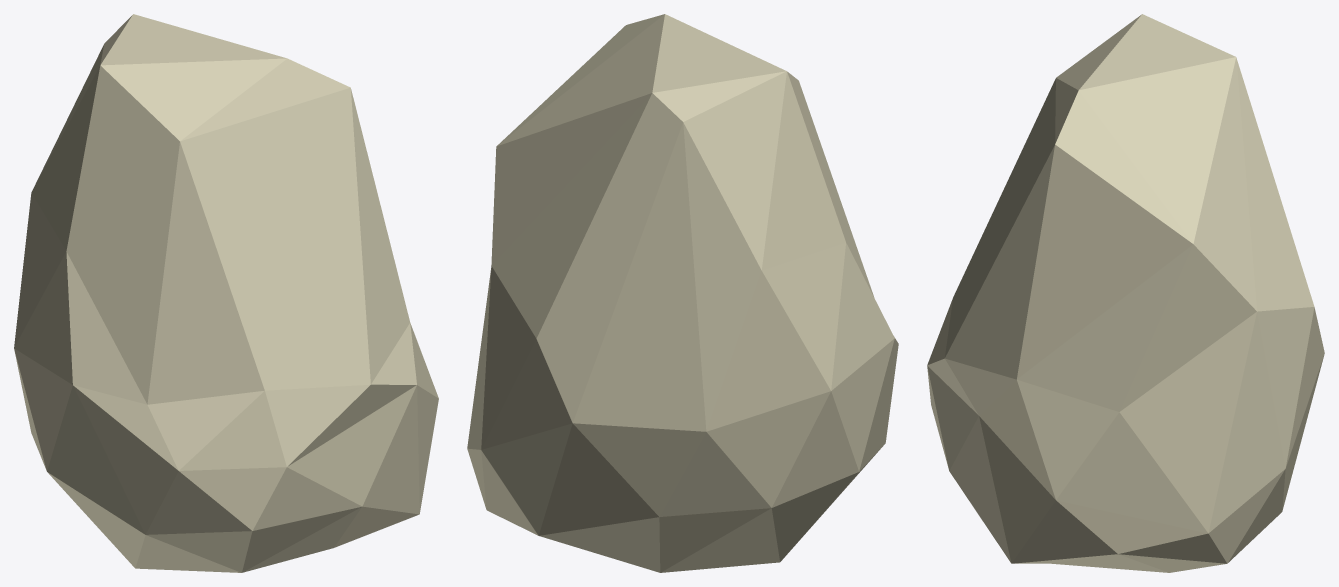
Rendered from Rock 5.fbx.
3 views of the same model, side by side, from view 1: azimuth 30°, elevation 25°; view 2: azimuth 150°, elevation 25°; view 3: azimuth 270°, elevation 25° (orthographic). The views are drawn at different scales.
Visible parts, largest first — view 1: Rock 5; view 2: Rock 5; view 3: Rock 5.
Part boxes in pixels (x1,y1,x2,y2): Rock 5: [14, 14, 438, 572]; Rock 5: [467, 14, 898, 572]; Rock 5: [927, 14, 1324, 572].
Size of the model in its own units: 191 by 265 by 194.
